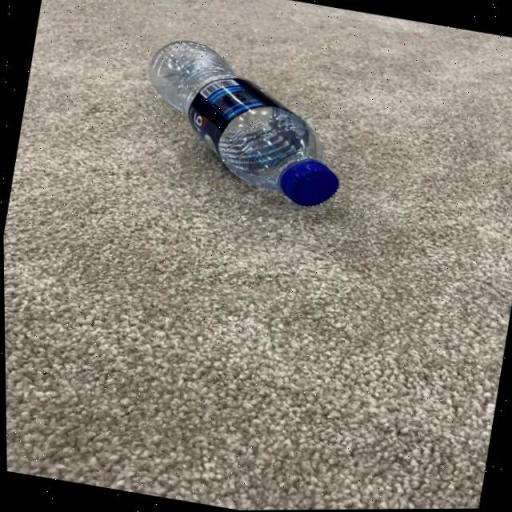plastic: (126, 30, 367, 217)
